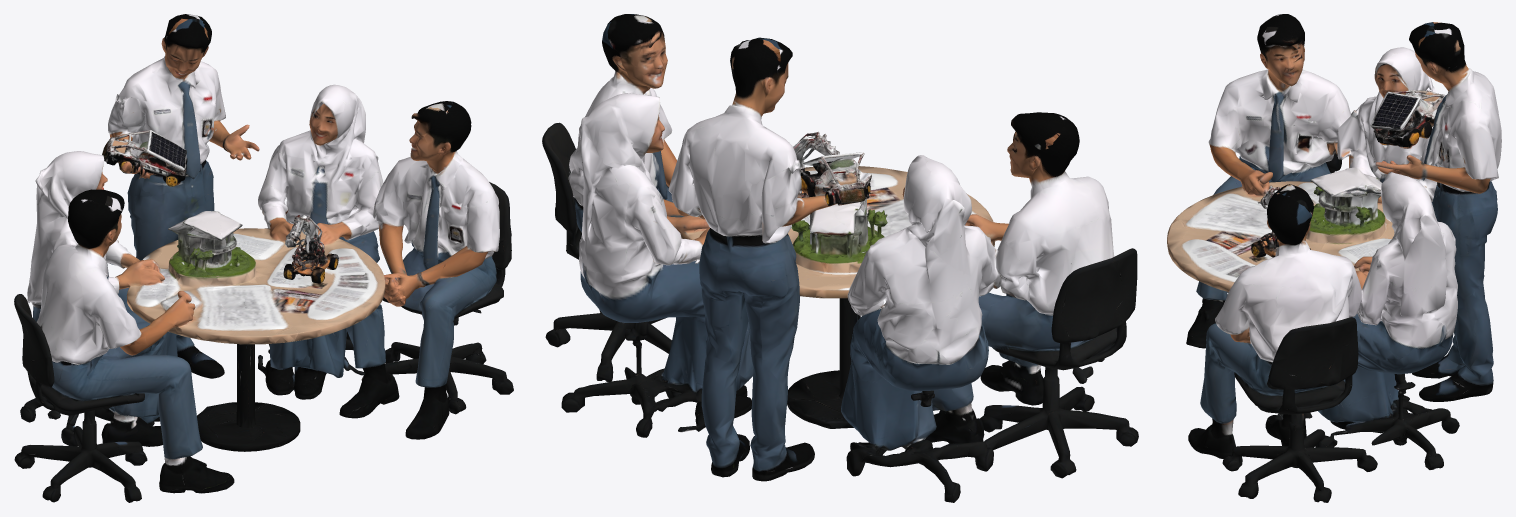
File: 4__Kreatifitas_final.glb
3 views of the same model, side by side, from view 1: azimuth 30°, elevation 25°; view 2: azimuth 150°, elevation 25°; view 3: azimuth 270°, elevation 25° (orthographic). The views are drawn at different scales.
Parts seen in each view (by area): view 1: mesh_node; view 2: mesh_node; view 3: mesh_node.
Boxes of the visible parts, box(x1,y1,x2,y2) form: mesh_node: box(14, 14, 513, 502); mesh_node: box(542, 14, 1138, 502); mesh_node: box(1167, 14, 1501, 502).
Size of the model in its own units: 1.9 by 1.34 by 1.12.
1 material, 1 textured.
